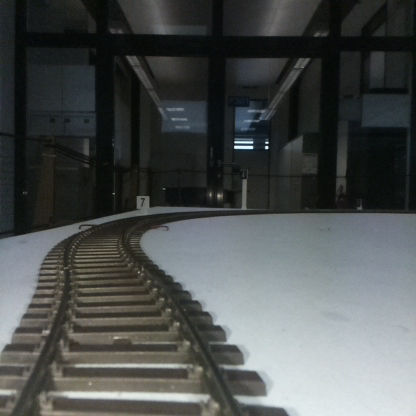black-info-4: (240, 168, 247, 208)
white-stop-7: (136, 195, 149, 215)
